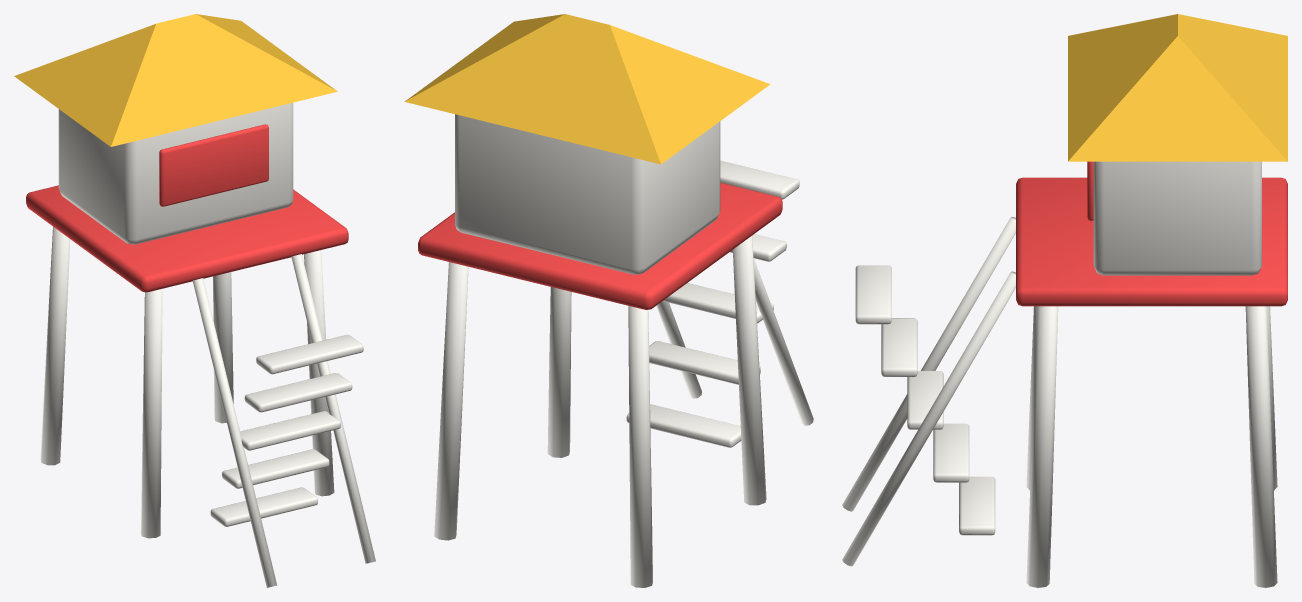
Rendered from tower.glb.
The picture shows the model from 3 angles, left to right: view 1: azimuth 30°, elevation 25°; view 2: azimuth 150°, elevation 25°; view 3: azimuth 270°, elevation 25°; orthographic projection. The views are drawn at different scales.
Visible parts, largest first — view 1: Tower; view 2: Tower; view 3: Tower.
Part boxes in pixels (left/top/right/bottom): Tower: left=14, top=14, right=375, bottom=587; Tower: left=404, top=14, right=813, bottom=587; Tower: left=842, top=14, right=1287, bottom=587.
Size of the model in its own units: 2.3 by 4.37 by 3.44.
